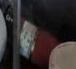cylinder: (0, 1, 76, 69)
